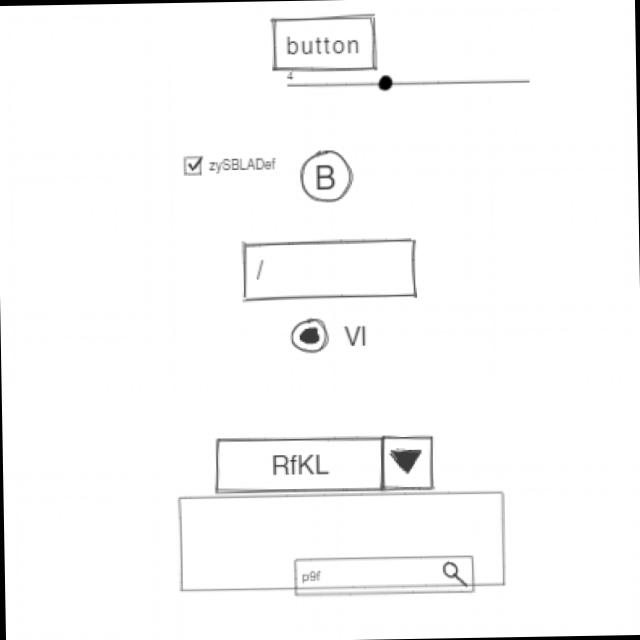button: (270, 12, 378, 74)
checkbox: (181, 150, 278, 178)
container: (176, 489, 508, 594)
icon-button: (298, 148, 355, 205)
input: (238, 234, 420, 304)
radio: (289, 314, 371, 356)
search: (292, 552, 477, 600)
select: (213, 430, 437, 496)
slider: (293, 72, 532, 92)
